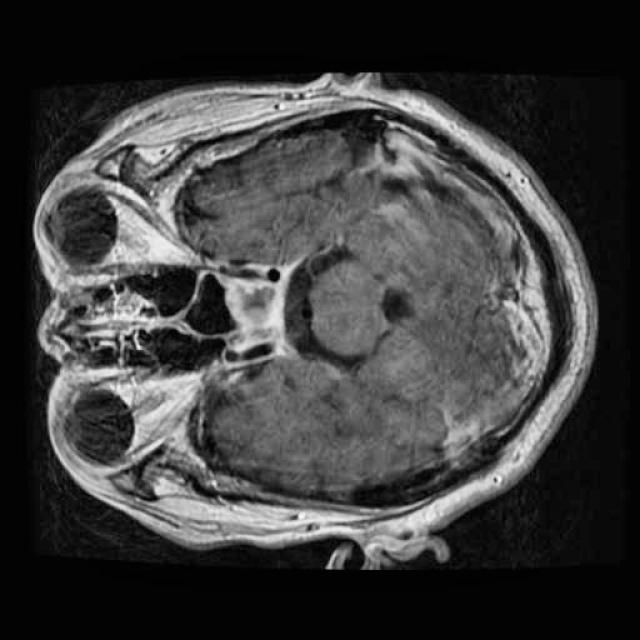Tumor: (211, 269, 296, 339)
